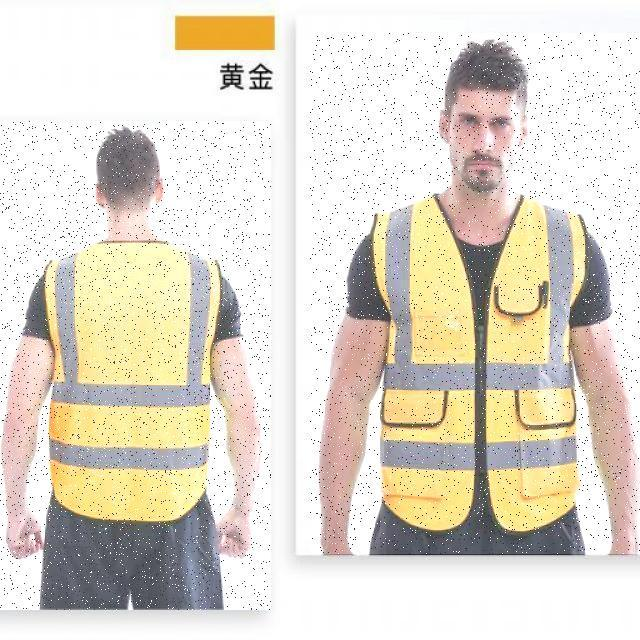Person: (318, 35, 627, 576), (8, 119, 269, 607)
Safety Vest: (364, 186, 590, 536), (30, 238, 222, 520)
bare-arms: (0, 510, 50, 567), (212, 509, 257, 563)
no-helmet: (90, 132, 167, 179), (449, 48, 530, 92)
